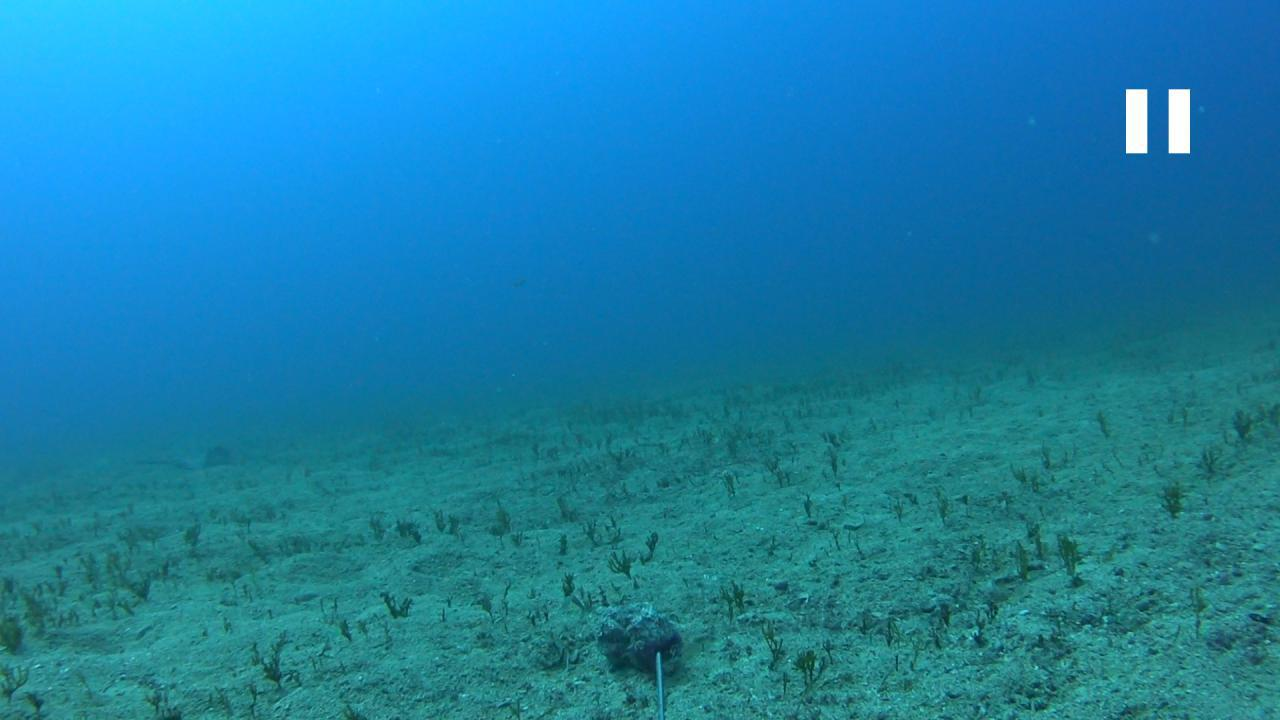dasyatis: (132, 444, 234, 470)
